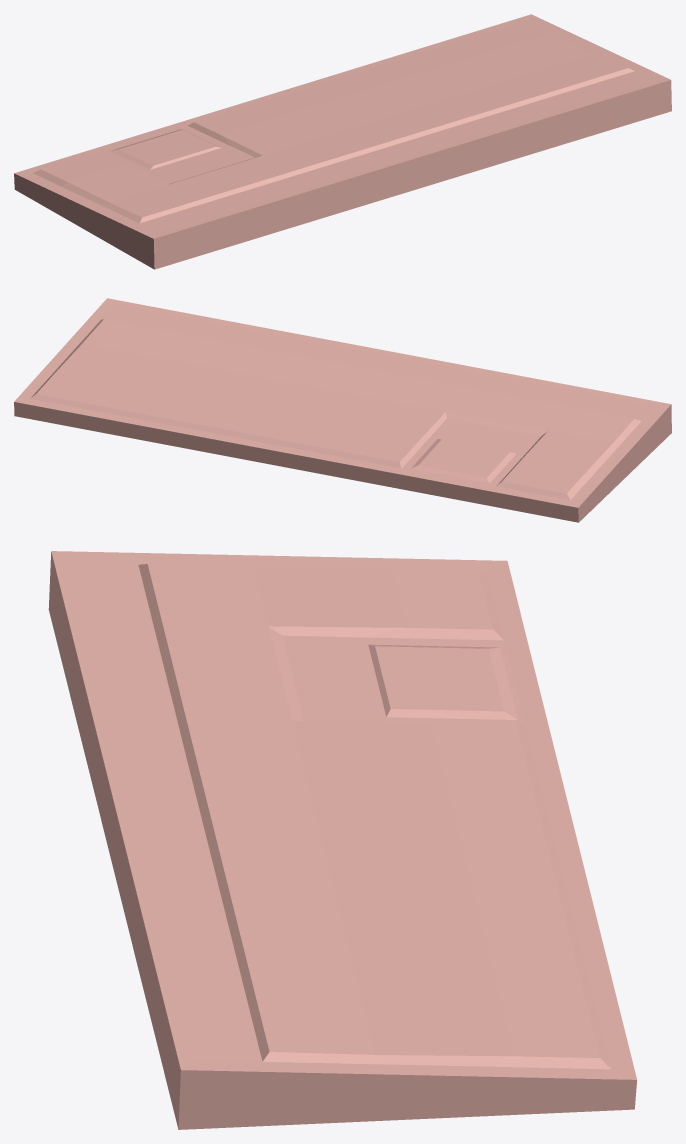
Rendered from MesaPTeclado.fbx.
The picture shows the model from 3 angles, top to bottom: view 1: azimuth 30°, elevation 25°; view 2: azimuth 150°, elevation 25°; view 3: azimuth 270°, elevation 25°; orthographic projection. The views are drawn at different scales.
Visible parts, largest first — view 1: TecladoPCA.001; view 2: TecladoPCA.001; view 3: TecladoPCA.001.
Part boxes in pixels (bbox=[...]): TecladoPCA.001: bbox=[14, 14, 671, 269]; TecladoPCA.001: bbox=[14, 298, 671, 522]; TecladoPCA.001: bbox=[48, 551, 637, 1129].
Size of the model in its own units: 60.39 by 3.18 by 27.84.
